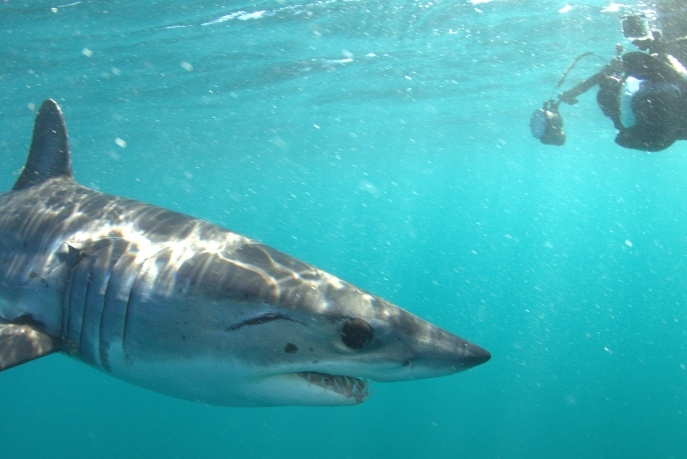Mako: (1, 95, 500, 425)
